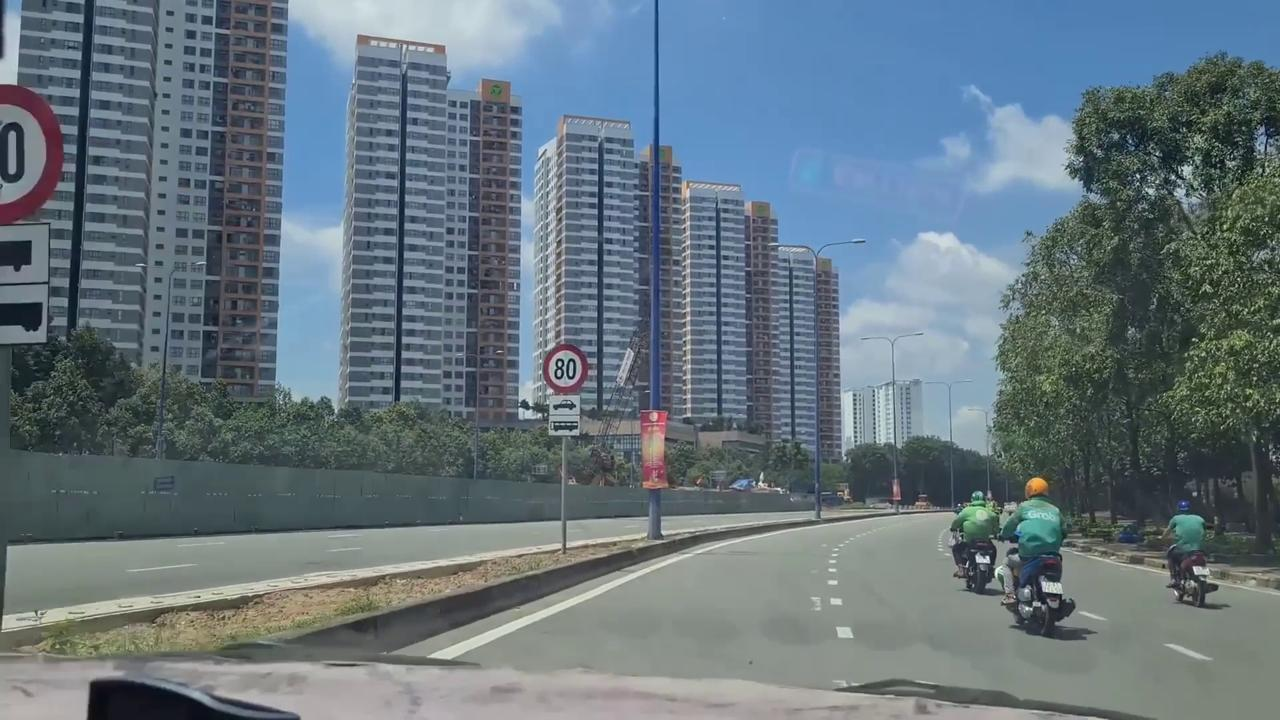Biển phụ: (547, 394, 582, 436)
Giới hạn tốc độ 80Km/h: (540, 342, 588, 394)
